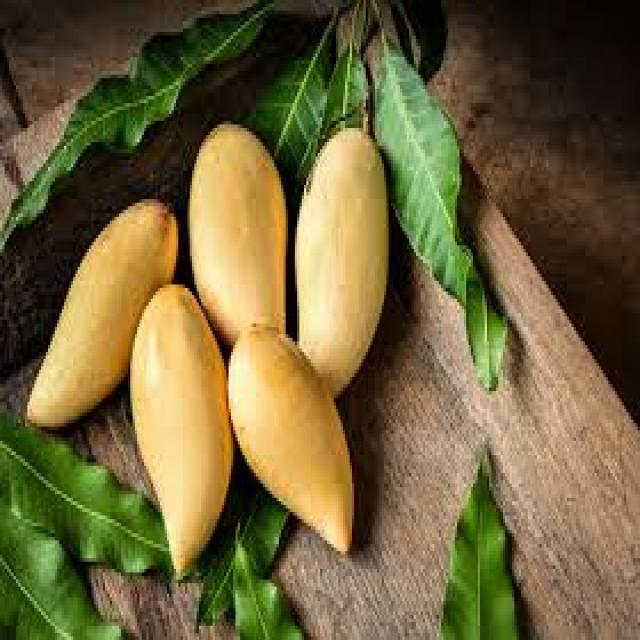mango: (25, 195, 179, 419), (226, 327, 357, 555), (134, 288, 233, 567), (292, 126, 390, 397), (187, 124, 287, 353)
